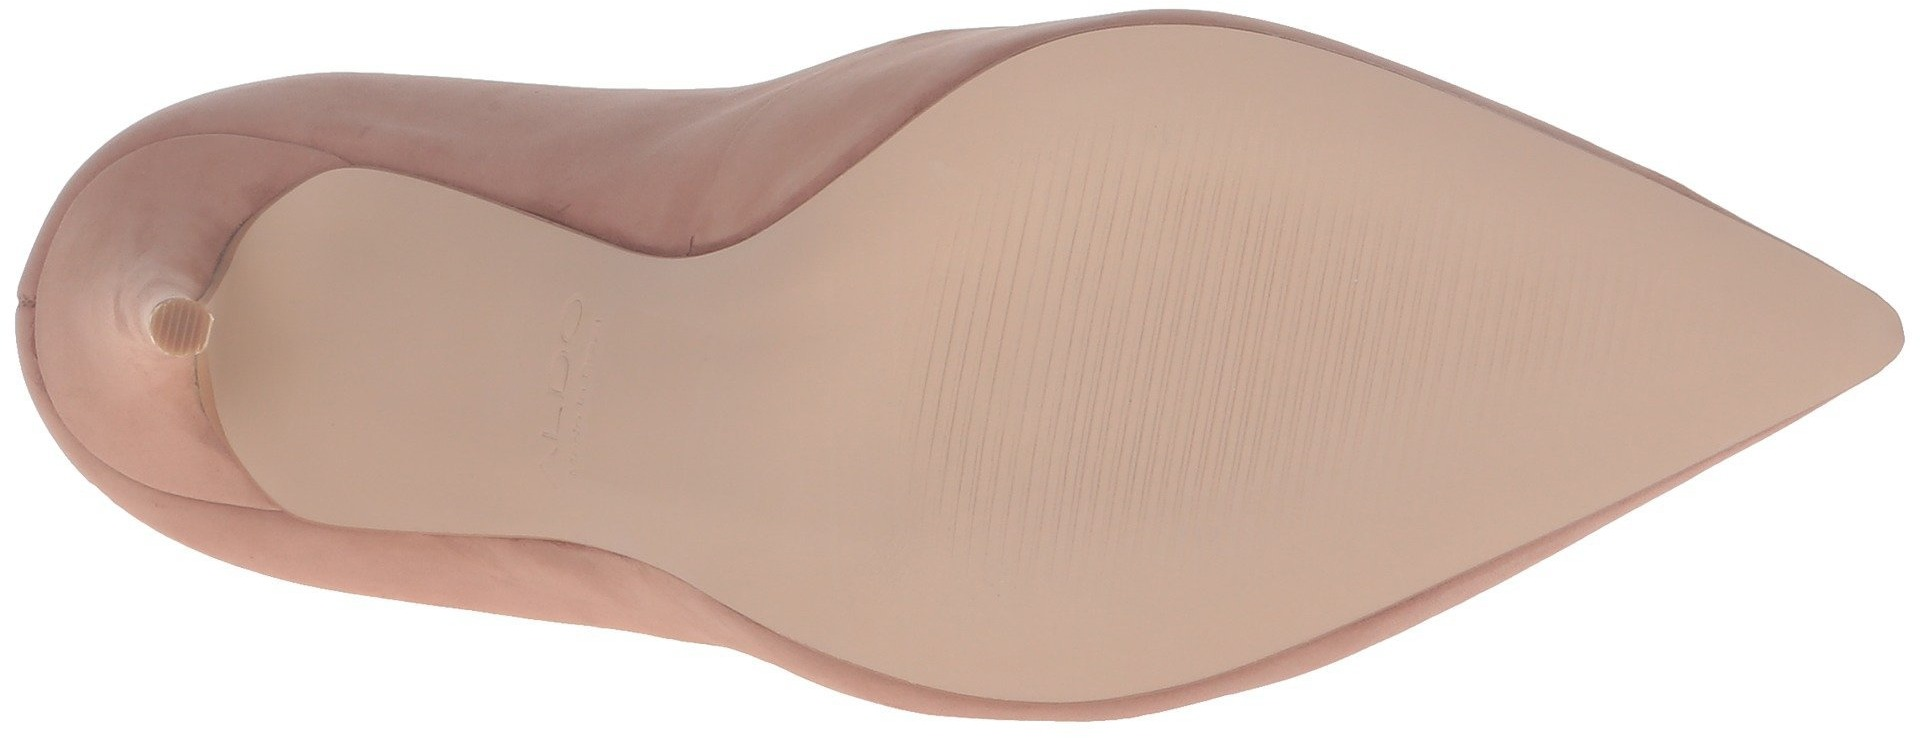exclude: (10, 10, 987, 437)
line: (1174, 187, 1414, 509), (966, 211, 1232, 458), (944, 268, 1168, 507), (1026, 179, 1202, 348), (964, 352, 1124, 513), (1224, 270, 1370, 433), (152, 297, 204, 352)
